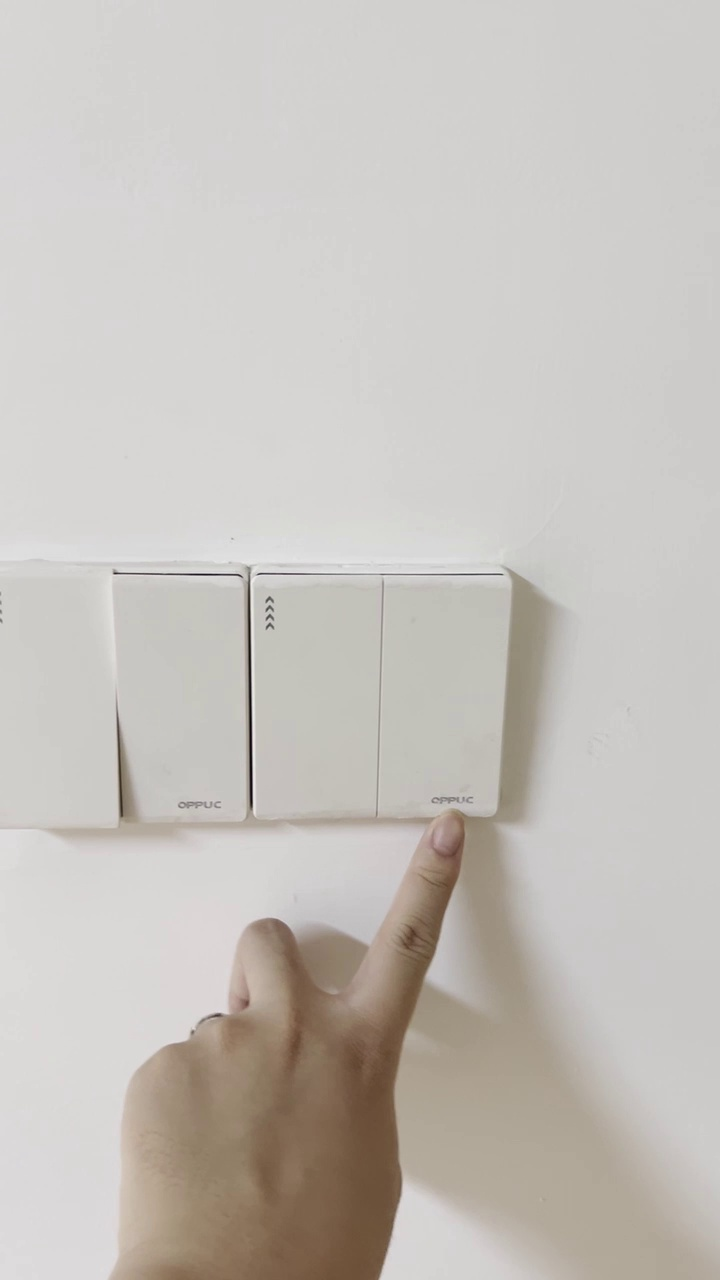button1: (118, 575, 249, 819), (1, 576, 118, 825), (384, 578, 498, 813), (261, 580, 374, 813)
